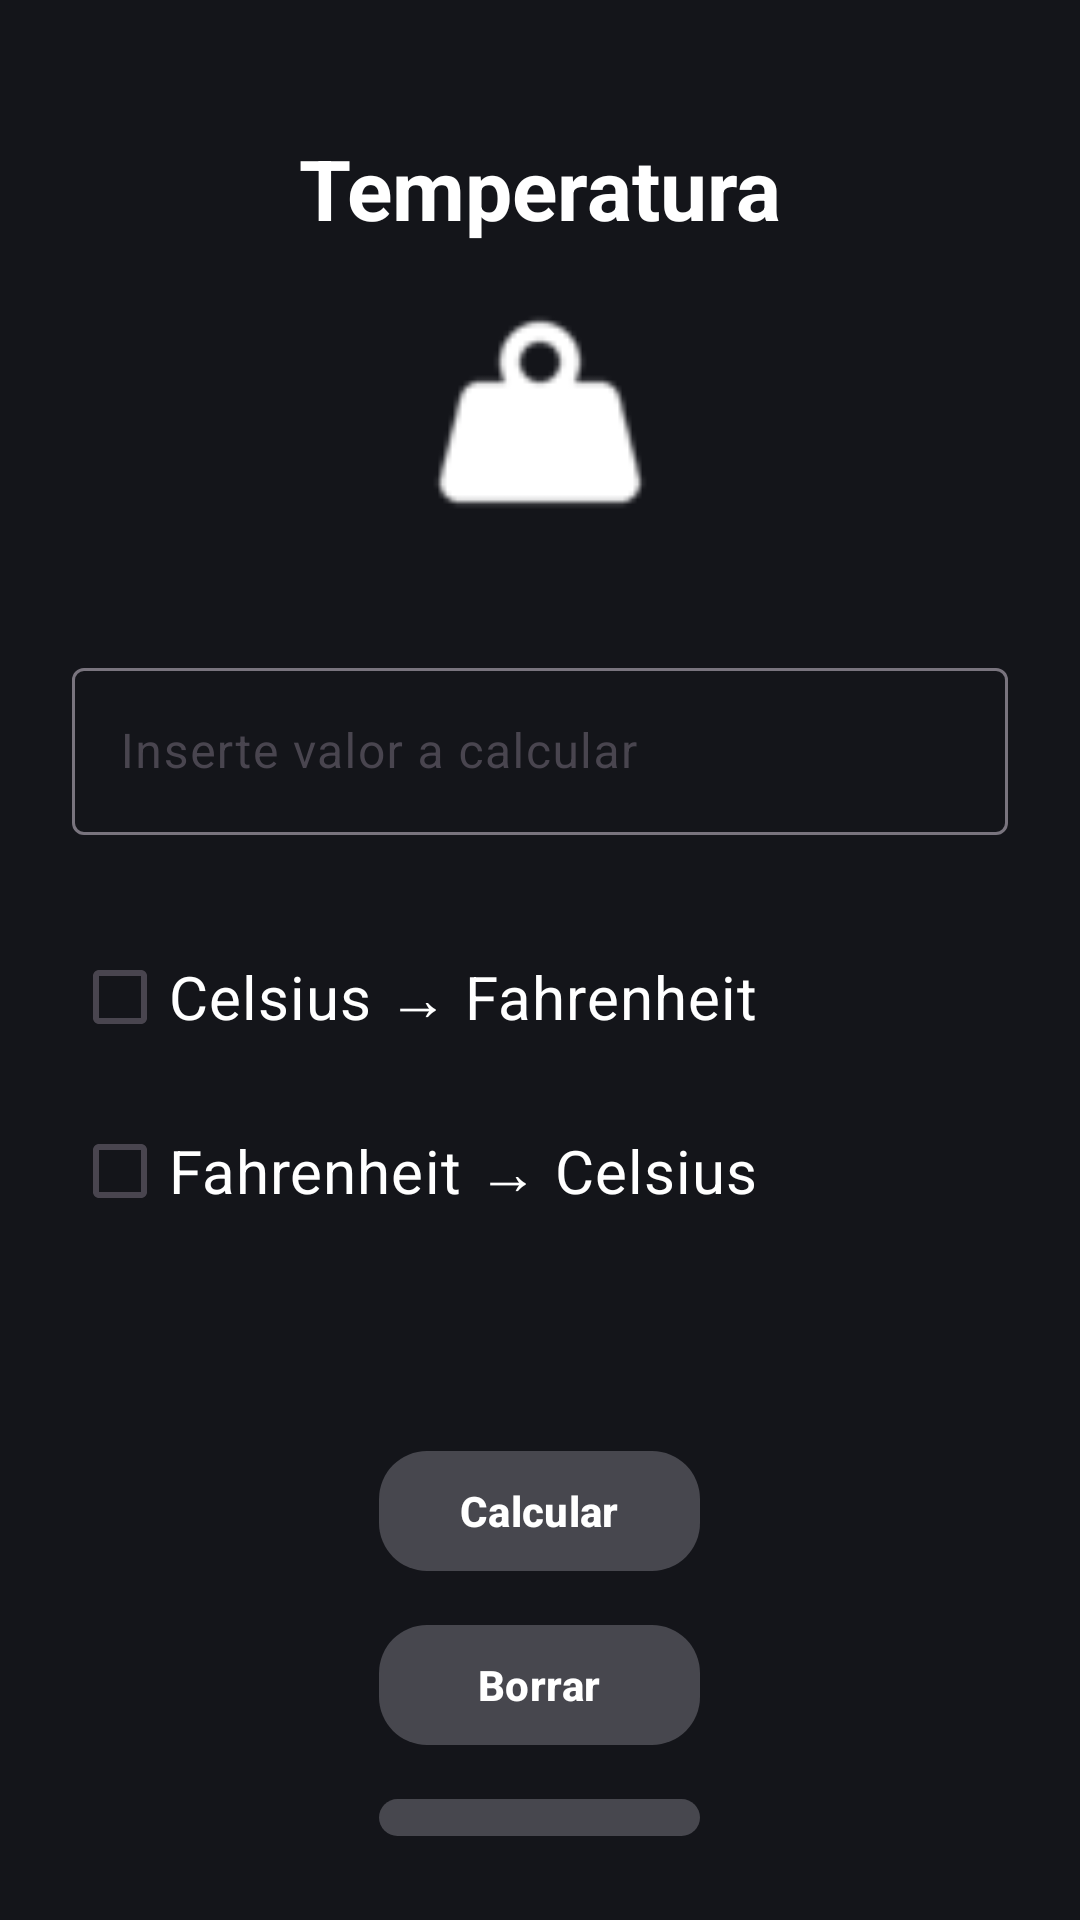

Screen size 1080×1920. Icon name, then its center in pixels as (x=x, y=y):
weight: (x=540, y=412)
